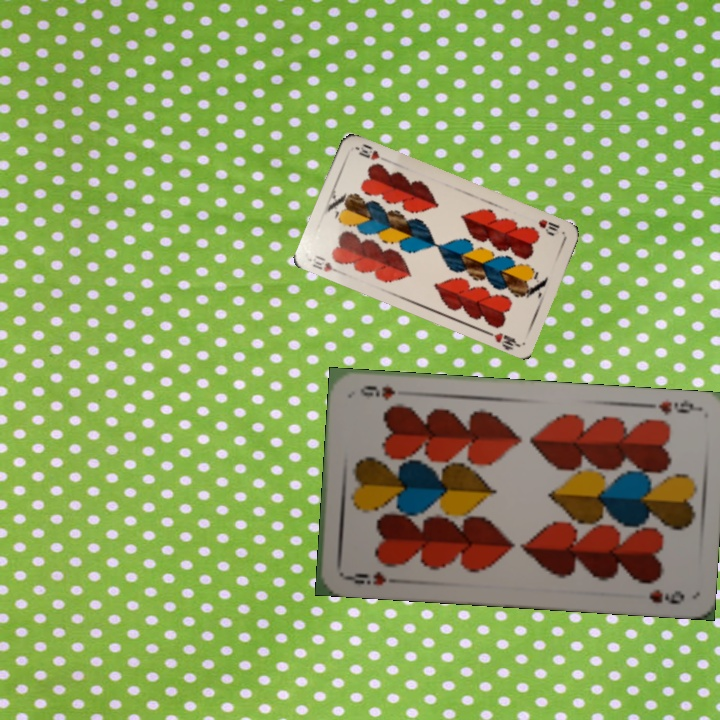H10: (306, 251, 345, 277), (534, 215, 562, 238)
H9: (341, 567, 389, 588), (654, 397, 701, 418)
